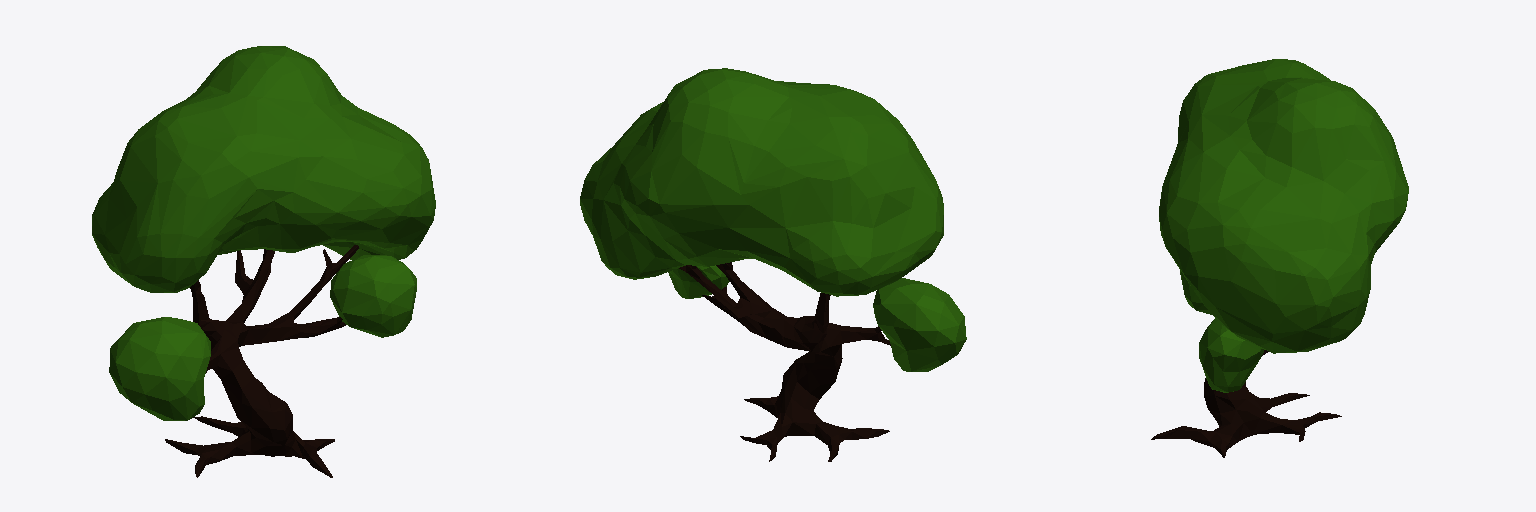
Rendered from ball_tree6.obj.
3 views of the same model, side by side, from view 1: azimuth 30°, elevation 25°; view 2: azimuth 150°, elevation 25°; view 3: azimuth 270°, elevation 25° (orthographic).
Parts seen in each view (by area): view 1: Tree5_2_Cube.013; view 2: Tree5_2_Cube.013; view 3: Tree5_2_Cube.013.
Boxes of the visible parts, x1=… form: Tree5_2_Cube.013: x1=92, y1=46, x2=435, y2=477; Tree5_2_Cube.013: x1=580, y1=68, x2=966, y2=461; Tree5_2_Cube.013: x1=1151, y1=59, x2=1408, y2=457.
Size of the model in its own units: 18.41 by 19.43 by 12.37.